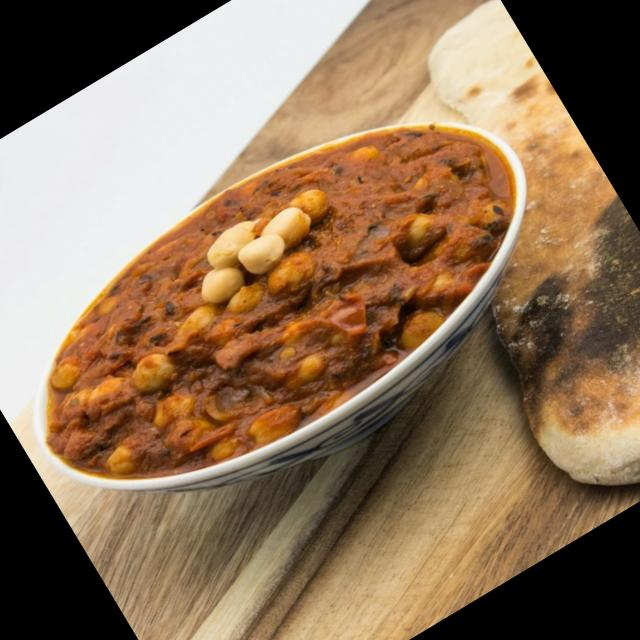Chole: (0, 60, 569, 544)
